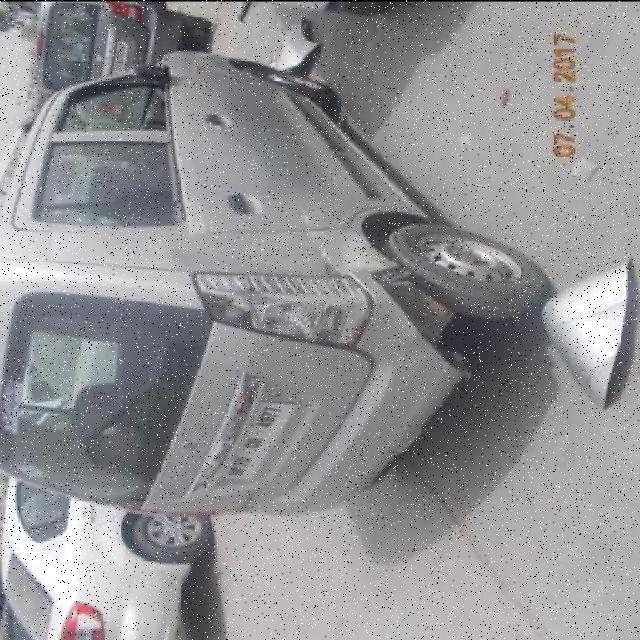damage: (369, 260, 471, 373), (310, 231, 354, 283)
